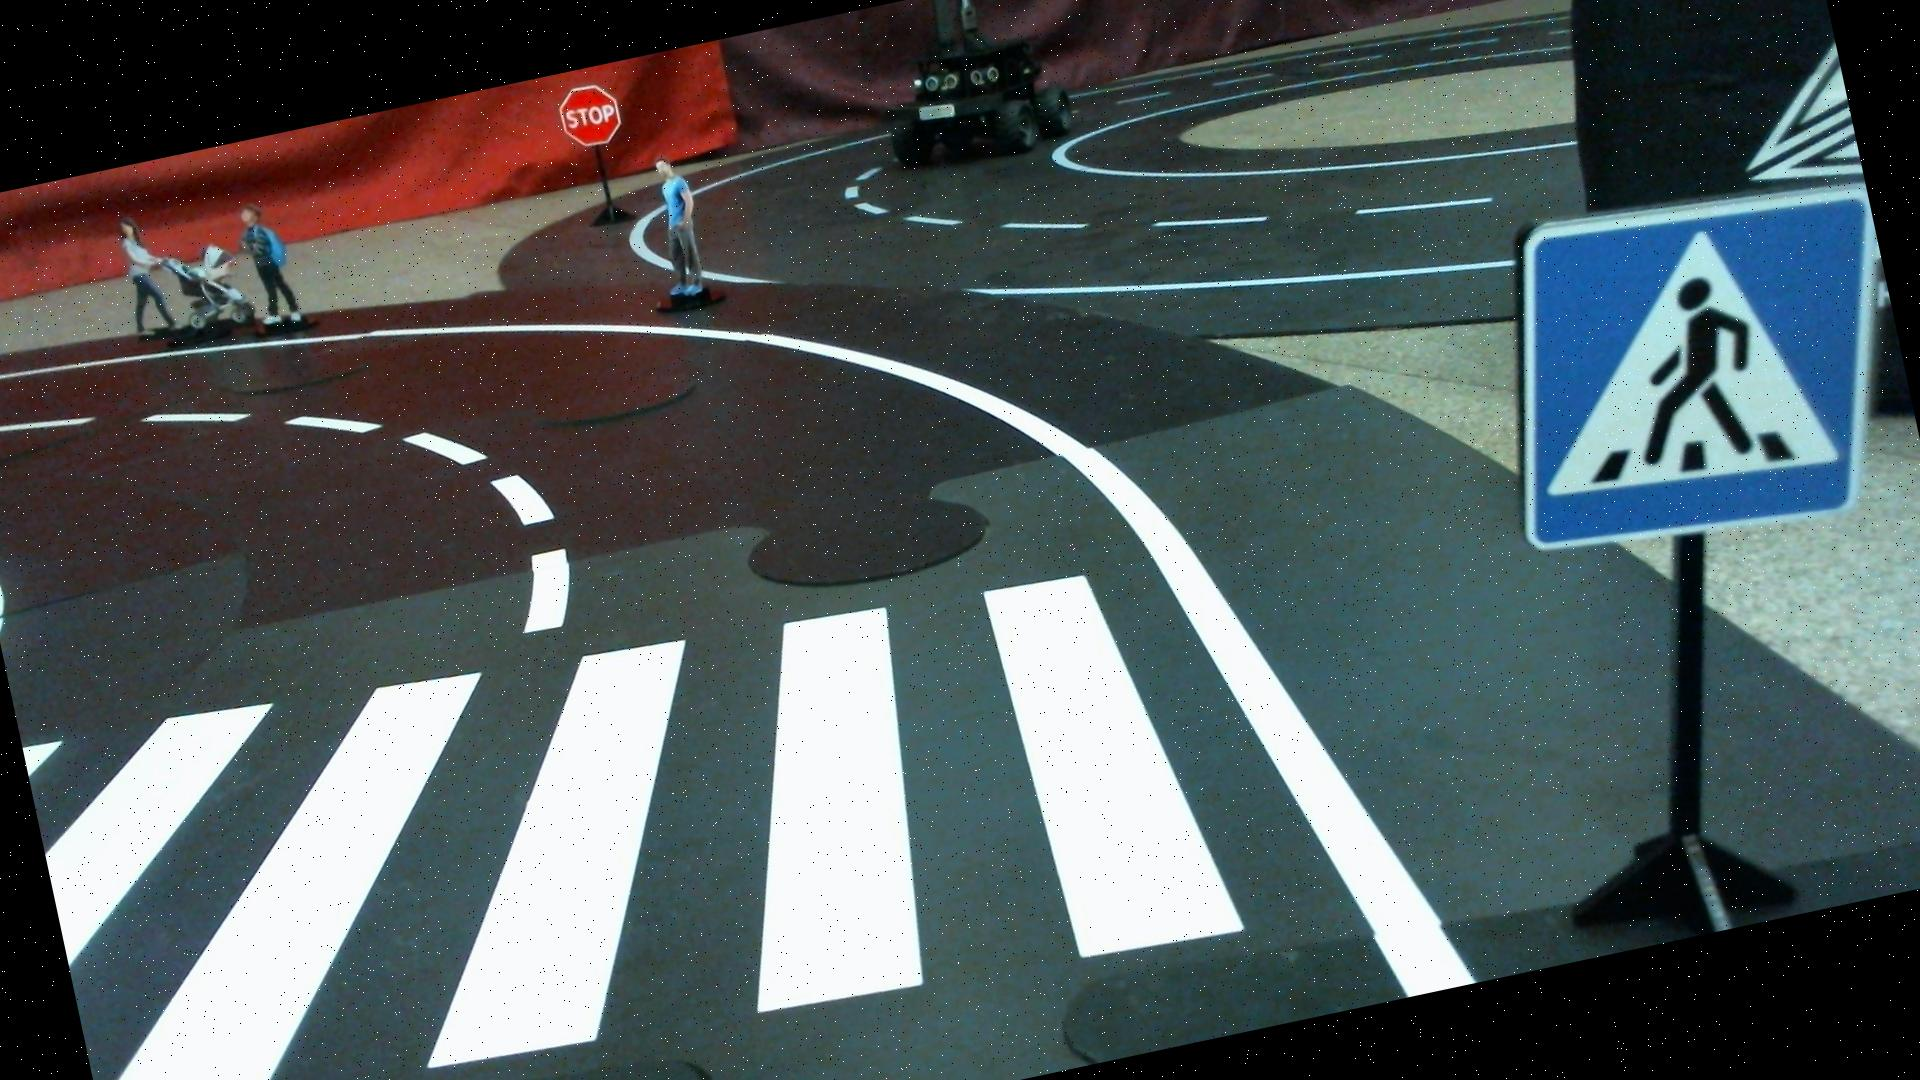crossing: (21, 464, 1413, 1080)
person: (108, 194, 250, 352), (228, 197, 317, 337), (640, 152, 718, 310)
